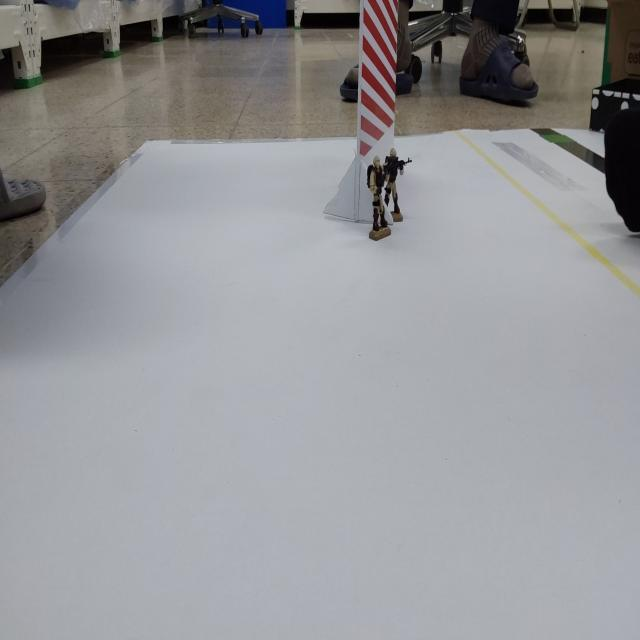ally: (384, 148, 412, 222), (367, 156, 391, 240)
